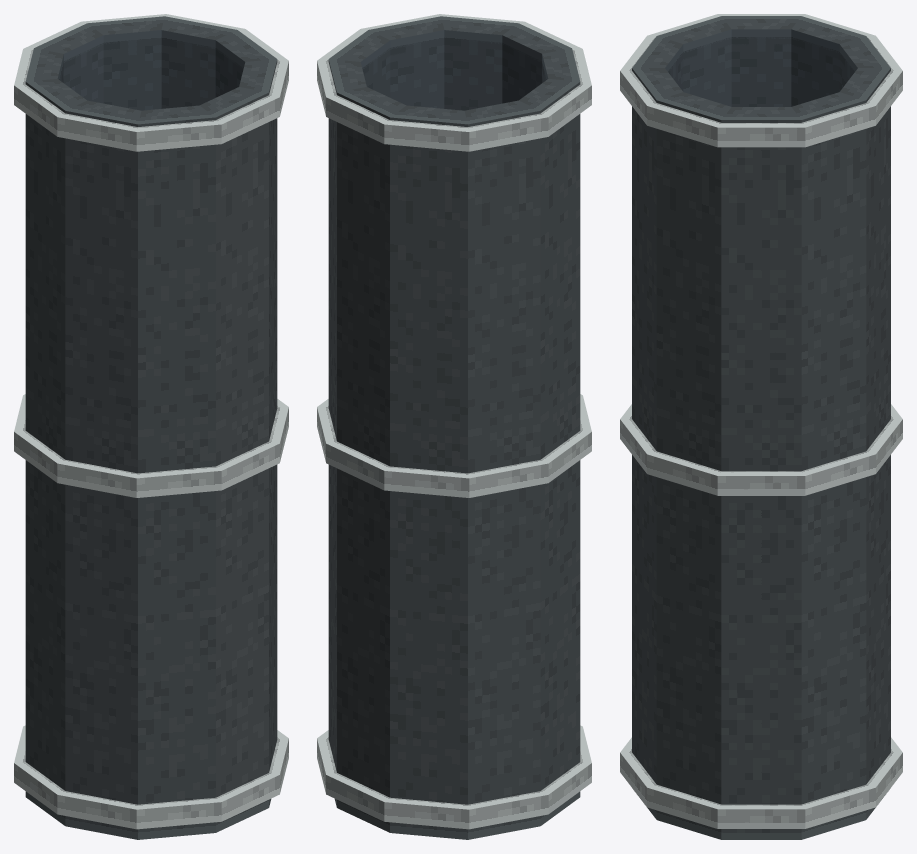
Rendered from f_tall_vent_pipe.glb.
The picture shows the model from 3 angles, left to right: view 1: azimuth 30°, elevation 25°; view 2: azimuth 150°, elevation 25°; view 3: azimuth 270°, elevation 25°; orthographic projection.
Parts seen in each view (by area): view 1: block_stacked-thick-vent-pipe-outer-2, block_stacked-thick-vent-pipe-outer-3, block_stacked-thick-vent-pipe-outer-1, block_stacked-thick-vent-pipe-outer-4, block_stacked-thick-vent-pipe-outer-0, block_sturdy-vent-flange-outer-2 (×3), block_sturdy-vent-flange-outer-3 (×3), block_stacked-thick-vent-pipe-inner-7, block_stacked-thick-vent-pipe-inner-8, block_sturdy-vent-flange-outer-1 (×3), block_sturdy-vent-flange-outer-4 (×3), block_stacked-thick-vent-pipe-inner-6 (+12 smaller); view 2: block_stacked-thick-vent-pipe-outer-6, block_stacked-thick-vent-pipe-outer-5, block_stacked-thick-vent-pipe-outer-7, block_stacked-thick-vent-pipe-outer-4, block_stacked-thick-vent-pipe-outer-8, block_sturdy-vent-flange-outer-6 (×3), block_sturdy-vent-flange-outer-5 (×3), block_stacked-thick-vent-pipe-inner-1, block_stacked-thick-vent-pipe-inner-0, block_sturdy-vent-flange-outer-7 (×3), block_sturdy-vent-flange-outer-4 (×3), block_stacked-thick-vent-pipe-inner-2 (+12 smaller); view 3: block_stacked-thick-vent-pipe-outer-9, block_stacked-thick-vent-pipe-outer-0, block_stacked-thick-vent-pipe-outer-8, block_stacked-thick-vent-pipe-outer-1, block_stacked-thick-vent-pipe-outer-7, block_sturdy-vent-flange-outer-9 (×3), block_stacked-thick-vent-pipe-inner-4, block_sturdy-vent-flange-outer-0 (×3), block_sturdy-vent-flange-outer-8 (×3), block_stacked-thick-vent-pipe-inner-3, block_stacked-thick-vent-pipe-inner-5, block_sturdy-vent-flange-outer-1 (×3) (+14 smaller).
Part boxes in pixels (bbox=[...]): block_stacked-thick-vent-pipe-outer-2: bbox=[138, 117, 215, 839]; block_stacked-thick-vent-pipe-outer-3: bbox=[65, 111, 137, 839]; block_stacked-thick-vent-pipe-outer-1: bbox=[216, 92, 268, 832]; block_stacked-thick-vent-pipe-outer-4: bbox=[25, 82, 65, 825]; block_stacked-thick-vent-pipe-outer-0: bbox=[269, 60, 277, 807]; block_sturdy-vent-flange-outer-2 (×3): bbox=[136, 124, 221, 829]; block_sturdy-vent-flange-outer-3 (×3): bbox=[57, 117, 136, 829]; block_stacked-thick-vent-pipe-inner-7: bbox=[103, 30, 161, 110]; block_stacked-thick-vent-pipe-inner-8: bbox=[161, 30, 215, 108]; block_sturdy-vent-flange-outer-1 (×3): bbox=[221, 97, 279, 821]; block_sturdy-vent-flange-outer-4 (×3): bbox=[14, 85, 57, 813]; block_stacked-thick-vent-pipe-inner-6: bbox=[64, 35, 103, 103]; block_stacked-thick-vent-pipe-outer-6: bbox=[390, 117, 467, 839]; block_stacked-thick-vent-pipe-outer-5: bbox=[468, 111, 540, 839]; block_stacked-thick-vent-pipe-outer-7: bbox=[337, 92, 389, 832]; block_stacked-thick-vent-pipe-outer-4: bbox=[540, 82, 580, 825]; block_stacked-thick-vent-pipe-outer-8: bbox=[328, 60, 336, 807]; block_sturdy-vent-flange-outer-6 (×3): bbox=[384, 124, 469, 829]; block_sturdy-vent-flange-outer-5 (×3): bbox=[469, 117, 548, 829]; block_stacked-thick-vent-pipe-inner-1: bbox=[444, 30, 502, 110]; block_stacked-thick-vent-pipe-inner-0: bbox=[390, 30, 444, 108]; block_sturdy-vent-flange-outer-7 (×3): bbox=[326, 97, 384, 821]; block_sturdy-vent-flange-outer-4 (×3): bbox=[548, 85, 591, 813]; block_stacked-thick-vent-pipe-inner-2: bbox=[502, 35, 541, 103]; block_stacked-thick-vent-pipe-outer-9: bbox=[721, 120, 801, 839]; block_stacked-thick-vent-pipe-outer-0: bbox=[656, 100, 721, 839]; block_stacked-thick-vent-pipe-outer-8: bbox=[801, 100, 866, 839]; block_stacked-thick-vent-pipe-outer-1: bbox=[632, 68, 656, 819]; block_stacked-thick-vent-pipe-outer-7: bbox=[866, 68, 890, 819]; block_sturdy-vent-flange-outer-9 (×3): bbox=[717, 127, 805, 828]; block_stacked-thick-vent-pipe-inner-4: bbox=[731, 29, 791, 106]; block_sturdy-vent-flange-outer-0 (×3): bbox=[647, 106, 717, 828]; block_sturdy-vent-flange-outer-8 (×3): bbox=[805, 106, 875, 828]; block_stacked-thick-vent-pipe-inner-3: bbox=[683, 29, 731, 106]; block_stacked-thick-vent-pipe-inner-5: bbox=[791, 29, 839, 106]; block_sturdy-vent-flange-outer-1 (×3): bbox=[620, 71, 646, 806].
Size of the model in its own units: 0.6772 by 2 by 0.712.
1 material, 1 textured.
